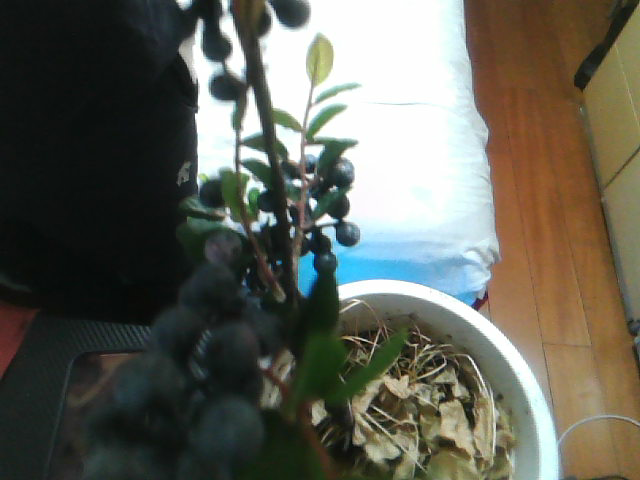blueberry: (560, 413, 640, 479), (187, 255, 239, 306), (488, 423, 520, 448)
